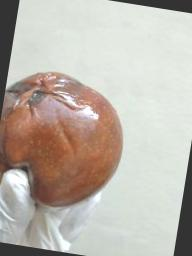Apple Rotten: (0, 54, 139, 223)
